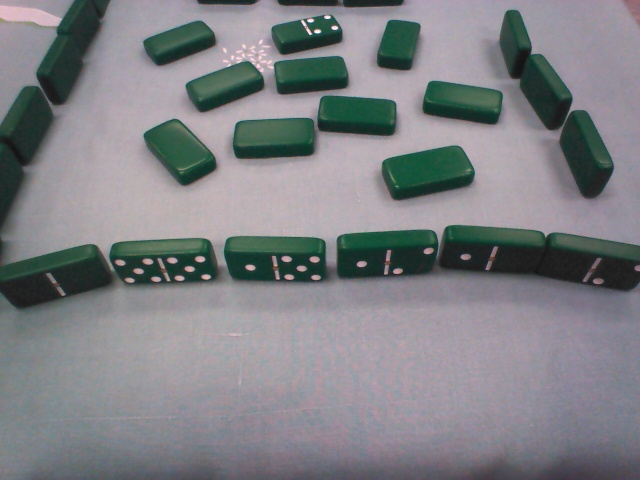A: (131, 113, 218, 188), (378, 141, 481, 199), (415, 74, 513, 133), (311, 91, 403, 142), (179, 57, 267, 109), (229, 113, 318, 161), (136, 13, 221, 62), (369, 13, 423, 79), (267, 53, 353, 92)
B: (264, 14, 346, 51)
C: (3, 85, 53, 161), (35, 34, 86, 102), (52, 2, 110, 46), (1, 142, 25, 230)
D: (557, 108, 615, 199), (511, 51, 569, 129), (489, 12, 534, 78)
E: (439, 215, 549, 289), (540, 224, 640, 295), (108, 233, 219, 295), (2, 248, 112, 310), (333, 221, 435, 287), (219, 230, 326, 292)
